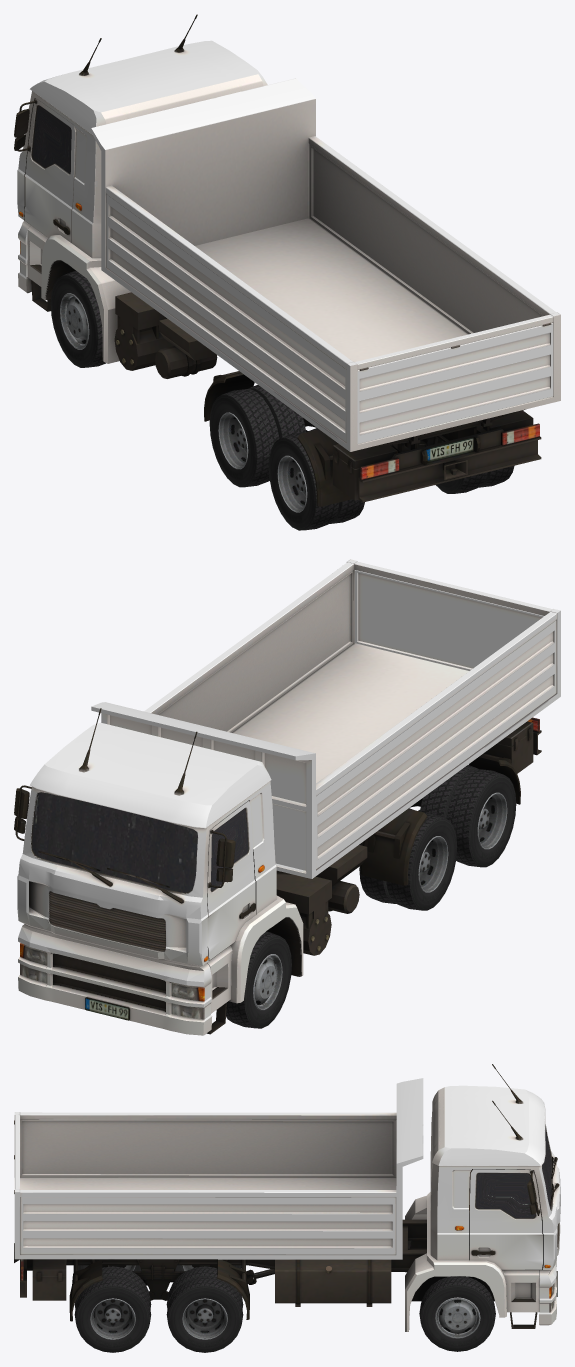
Rendered from truck_1.dae.
3 views of the same model, one above another, from view 1: azimuth 30°, elevation 25°; view 2: azimuth 150°, elevation 25°; view 3: azimuth 270°, elevation 25° (orthographic). The views are drawn at different scales.
Visible parts, largest first — view 1: DrawCall_1221, DrawCall_0998, DrawCall_0997, DrawCall_1222, DrawCall_1236, DrawCall_0996, DrawCall_1237, DrawCall_1235, Truck_1, DrawCall_1231, DrawCall_1230, DrawCall_1229 (+2 smaller); view 2: DrawCall_1221, DrawCall_0998, Truck_1, DrawCall_1222, DrawCall_0997, DrawCall_0996, DrawCall_1237, DrawCall_0995, DrawCall_1236, DrawCall_1235, DrawCall_0991, DrawCall_1231 (+2 smaller); view 3: DrawCall_1221, DrawCall_0998, DrawCall_0997, DrawCall_1233, DrawCall_1234, DrawCall_0996, DrawCall_1232, Truck_1, DrawCall_1227, DrawCall_1228, DrawCall_1226, DrawCall_0995.
Boxes of the visible parts, bbox=[...] form: DrawCall_1221: bbox=[91, 78, 560, 451]; DrawCall_0998: bbox=[17, 40, 267, 363]; DrawCall_0997: bbox=[24, 98, 541, 502]; DrawCall_1222: bbox=[357, 323, 553, 443]; DrawCall_1236: bbox=[209, 385, 305, 487]; DrawCall_0996: bbox=[14, 14, 539, 506]; DrawCall_1237: bbox=[268, 428, 364, 530]; DrawCall_1235: bbox=[50, 271, 105, 367]; Truck_1: bbox=[32, 105, 71, 173]; DrawCall_1231: bbox=[277, 455, 307, 512]; DrawCall_1230: bbox=[218, 412, 248, 469]; DrawCall_1229: bbox=[60, 293, 89, 349]; DrawCall_1221: bbox=[91, 559, 560, 878]; DrawCall_0998: bbox=[17, 722, 303, 1035]; Truck_1: bbox=[32, 792, 248, 892]; DrawCall_1222: bbox=[355, 570, 544, 670]; DrawCall_0997: bbox=[29, 721, 541, 1034]; DrawCall_0996: bbox=[14, 708, 539, 1020]; DrawCall_1237: bbox=[420, 765, 516, 867]; DrawCall_0995: bbox=[49, 728, 531, 951]; DrawCall_1236: bbox=[359, 808, 457, 910]; DrawCall_1235: bbox=[226, 931, 291, 1028]; DrawCall_0991: bbox=[20, 945, 204, 1019]; DrawCall_1231: bbox=[477, 792, 507, 849]; DrawCall_1221: bbox=[14, 1078, 423, 1259]; DrawCall_0998: bbox=[405, 1085, 560, 1331]; DrawCall_0997: bbox=[14, 1169, 543, 1328]; DrawCall_1233: bbox=[166, 1266, 243, 1352]; DrawCall_1234: bbox=[74, 1266, 151, 1352]; DrawCall_0996: bbox=[22, 1064, 559, 1321]; DrawCall_1232: bbox=[419, 1276, 495, 1351]; Truck_1: bbox=[476, 1129, 551, 1218]; DrawCall_1227: bbox=[182, 1298, 227, 1339]; DrawCall_1228: bbox=[90, 1298, 135, 1339]; DrawCall_1226: bbox=[435, 1297, 480, 1338]; DrawCall_0995: bbox=[37, 1223, 559, 1282].
Size of the model in its own units: 272 by 356 by 756.
